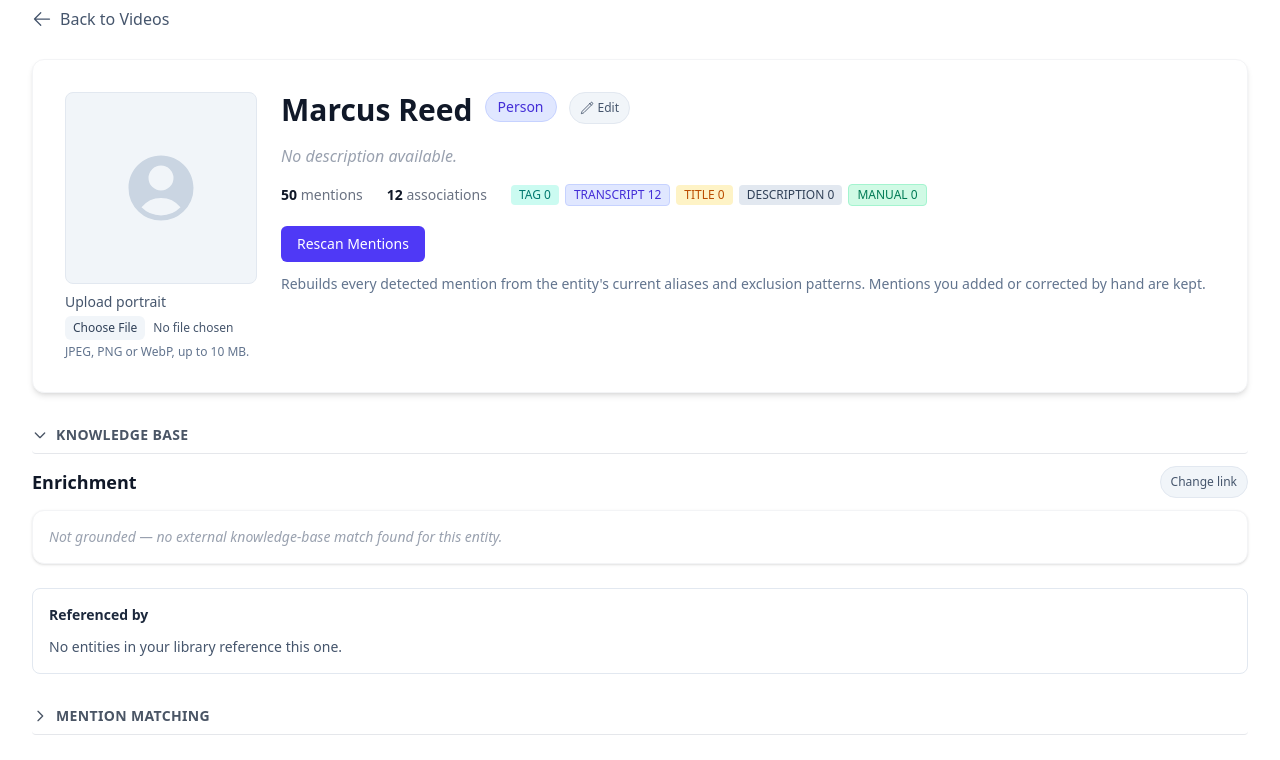
EntityDetailPage — alias case-sensitivity toggle (#177) › does not rescan when saving the flag failed
Click the button "Mention matching" at (133, 716), box x1=32 y1=698 x2=1248 y2=735
(page scrolled)
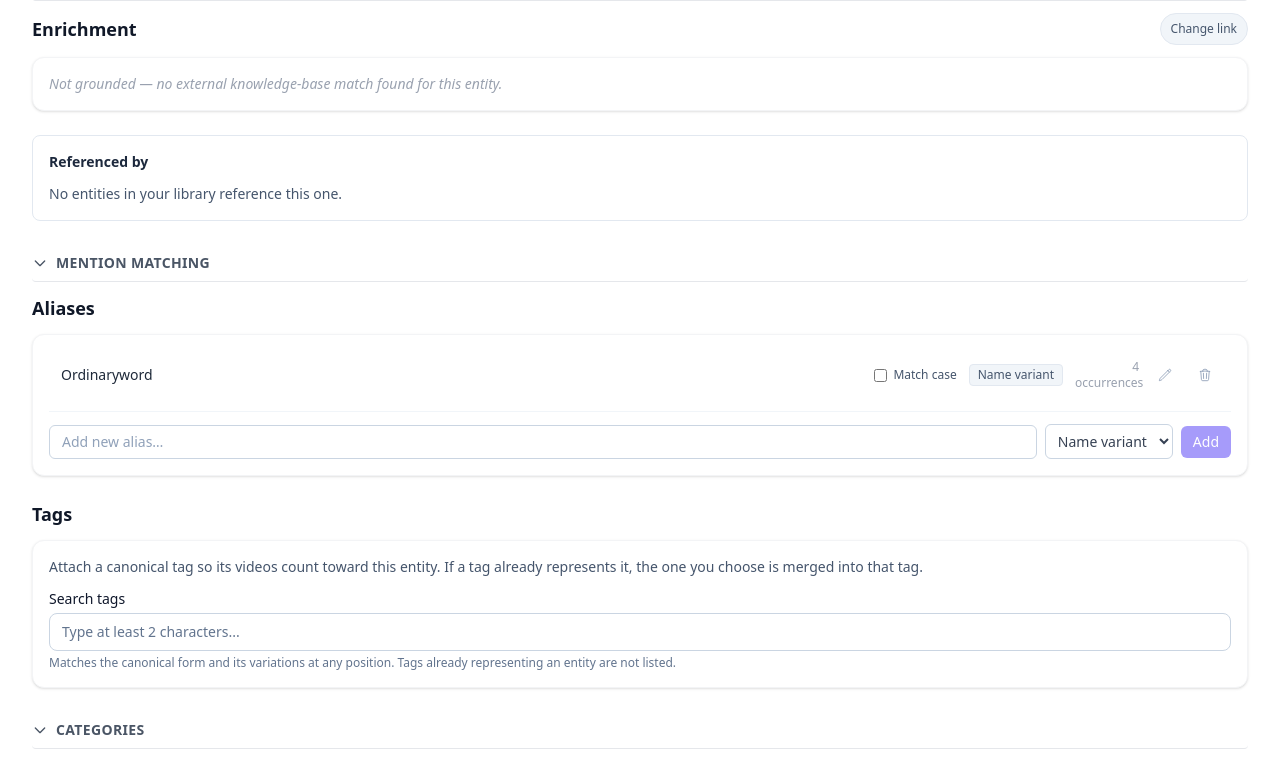
Click the checkbox labelled "Match case" at (881, 375), box x1=874 y1=368 x2=887 y2=382
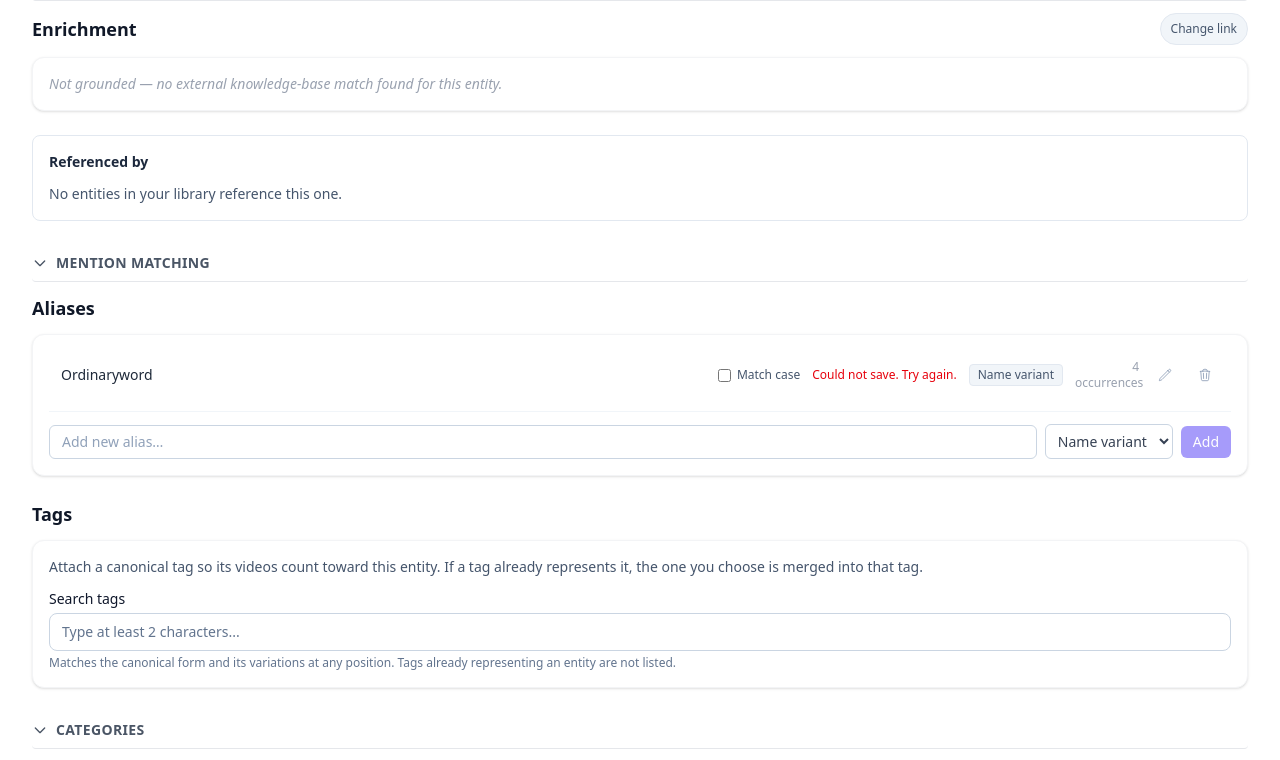
Expected: the message "Could not save. Try again." is shown, x1=812 y1=367 x2=957 y2=383
